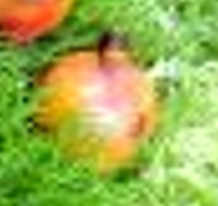pomegranate_B: (30, 46, 161, 172)
